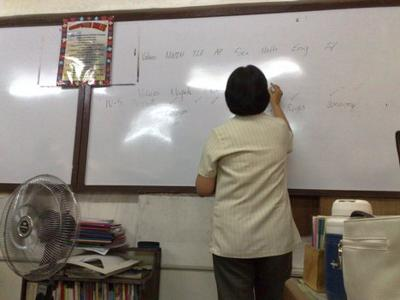person: (196, 65, 300, 300)
